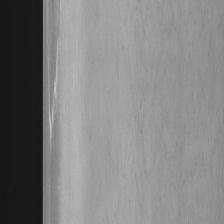silk_spot: (44, 34, 74, 142)
